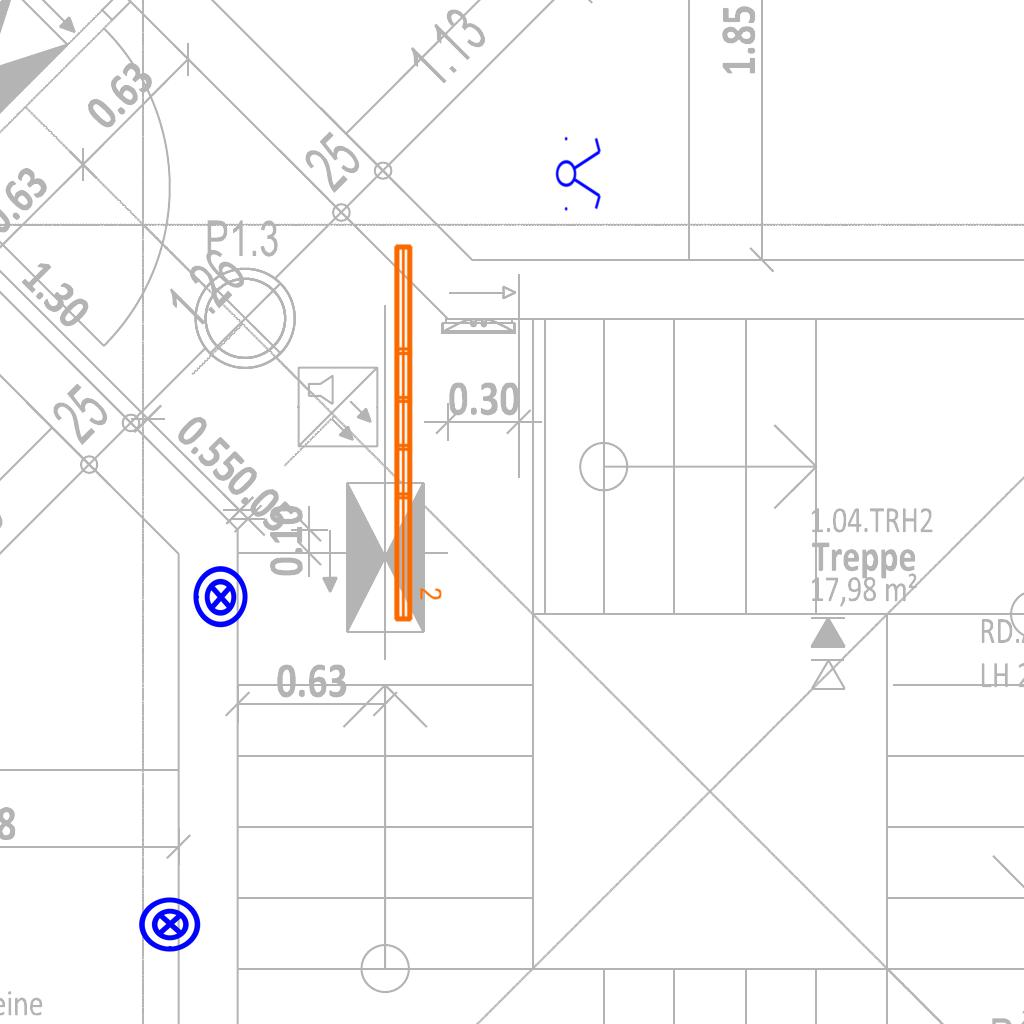Ambulanz_Pendelleuchte_LED: (388, 239, 444, 626)
Serienschalter: (555, 131, 603, 215)
Taster_beleuchtet: (137, 891, 203, 957), (188, 564, 254, 630)
